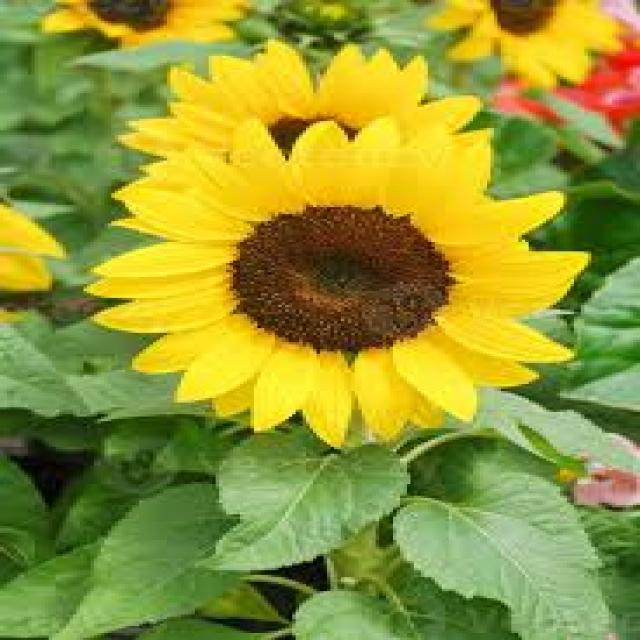sunflower: (79, 110, 607, 453), (109, 39, 503, 181), (410, 2, 638, 92), (28, 0, 271, 59), (0, 197, 77, 340)
